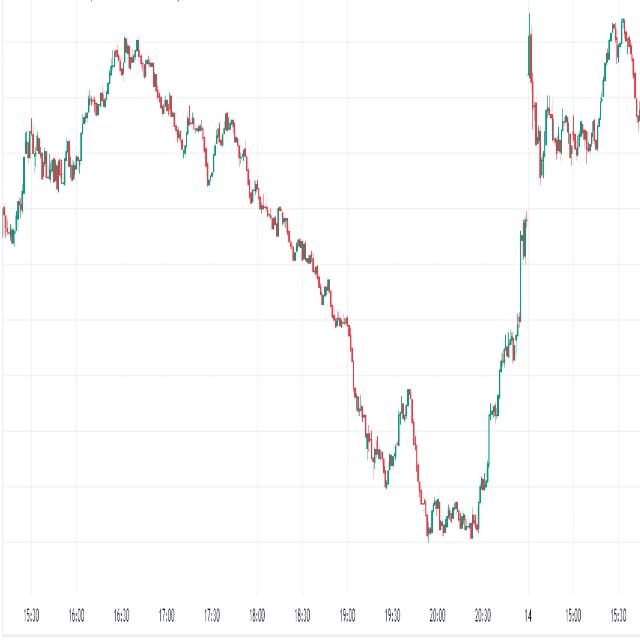Head-Shoulders: (210, 106, 250, 210)
